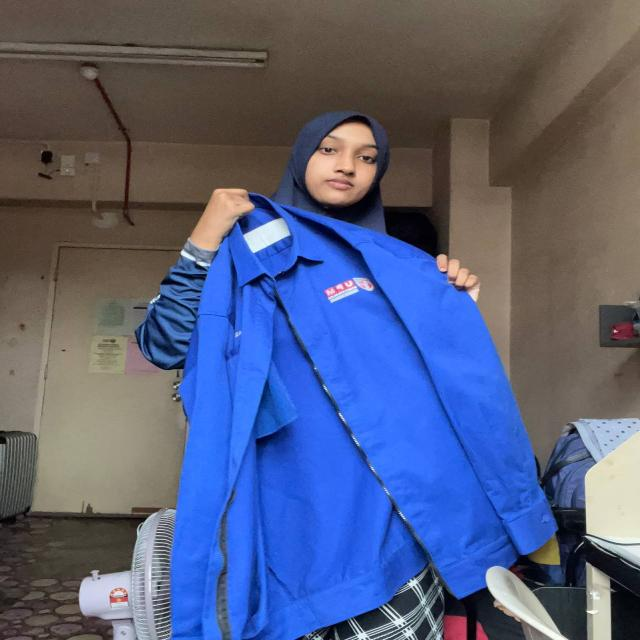person_without_labcoat: (137, 112, 555, 640)
